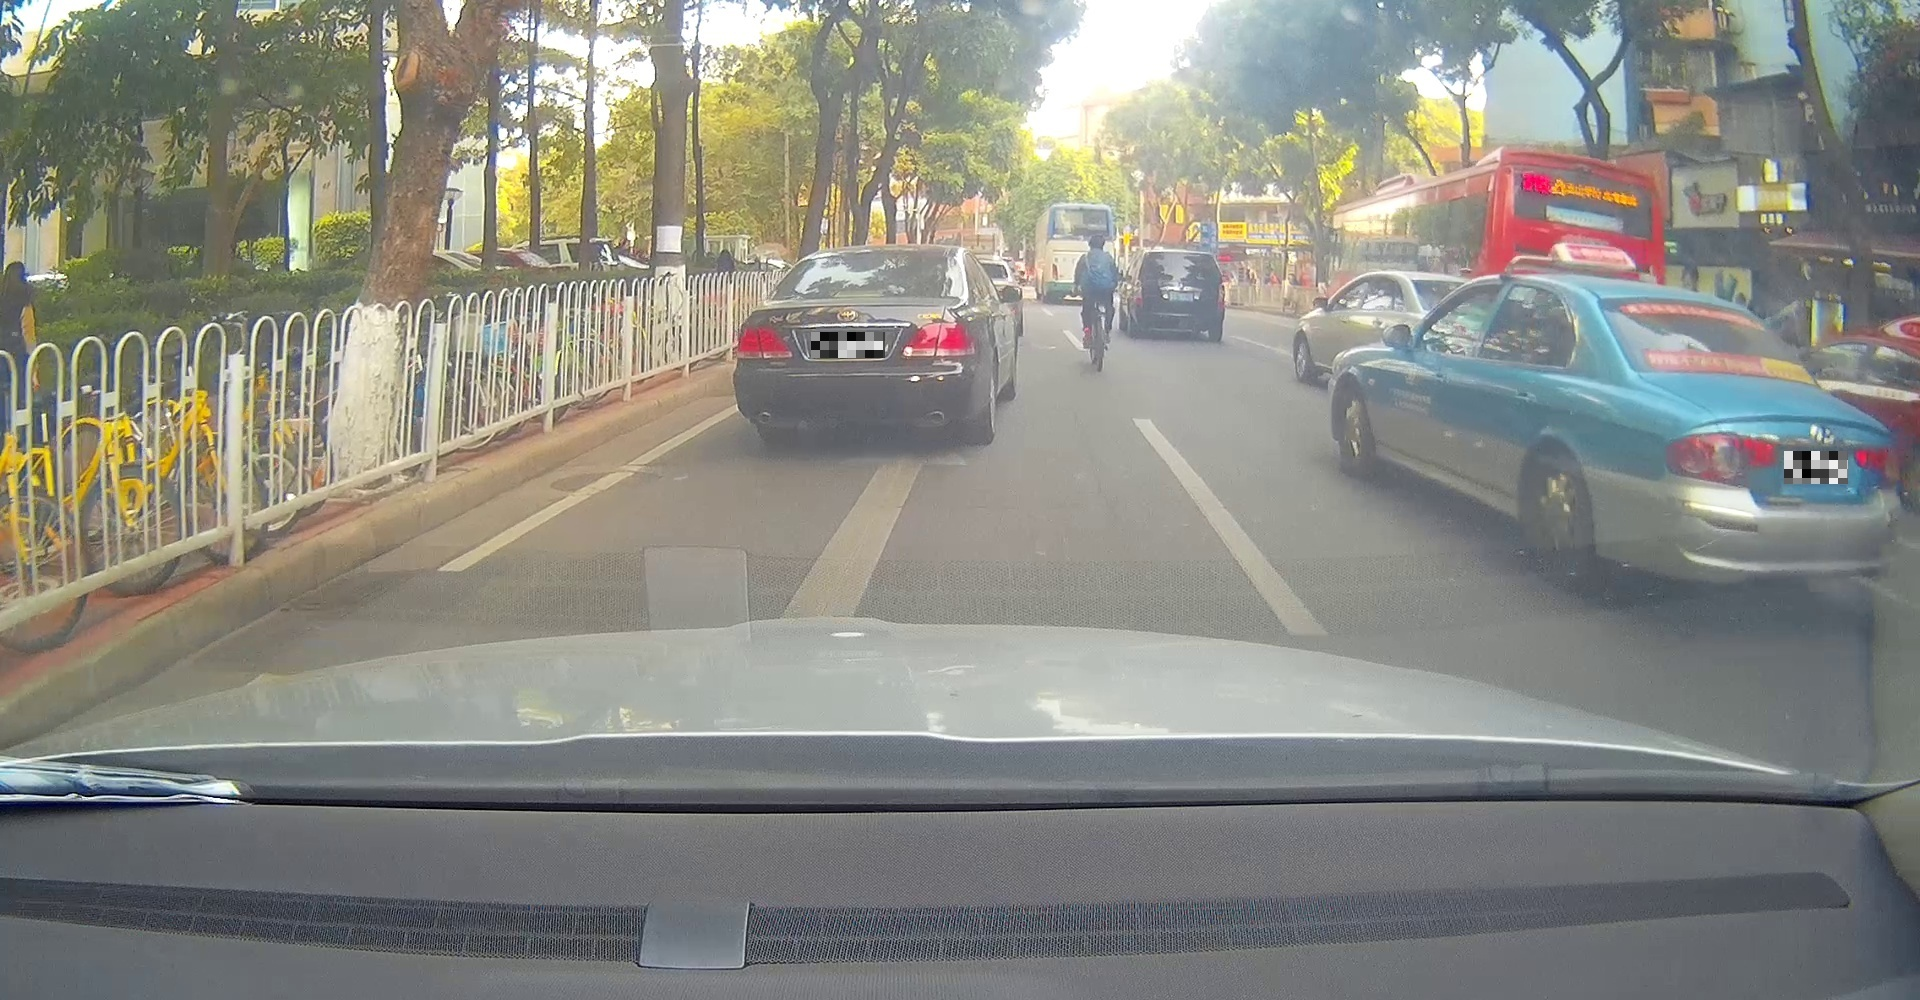L_light: (1662, 430, 1779, 489), (737, 324, 792, 360), (1133, 279, 1143, 305)
R_light: (900, 321, 977, 359), (1851, 439, 1902, 484), (1217, 284, 1225, 308)
T_light: (836, 288, 884, 297), (1691, 305, 1717, 315), (1172, 254, 1190, 258)
day-no: (1585, 275, 1903, 586), (731, 242, 983, 445), (1131, 249, 1225, 341)
plate_1: (811, 332, 885, 358)
plate_2: (1784, 451, 1848, 484)
